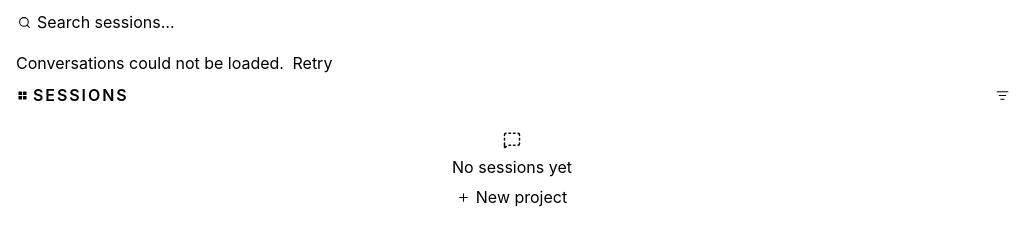
Test case: sessions sidebar › a failed load says so and retries
expect the message shows "could not be loaded": met, box [16,53,284,73]
Click the button "Retry". click: (312, 63)
box: [288,49,336,77]
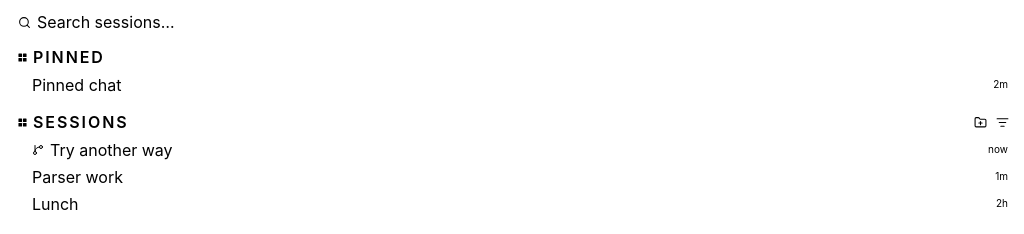
expect the button "Lunch 2h" is shown: met, box [8,190,1016,217]
